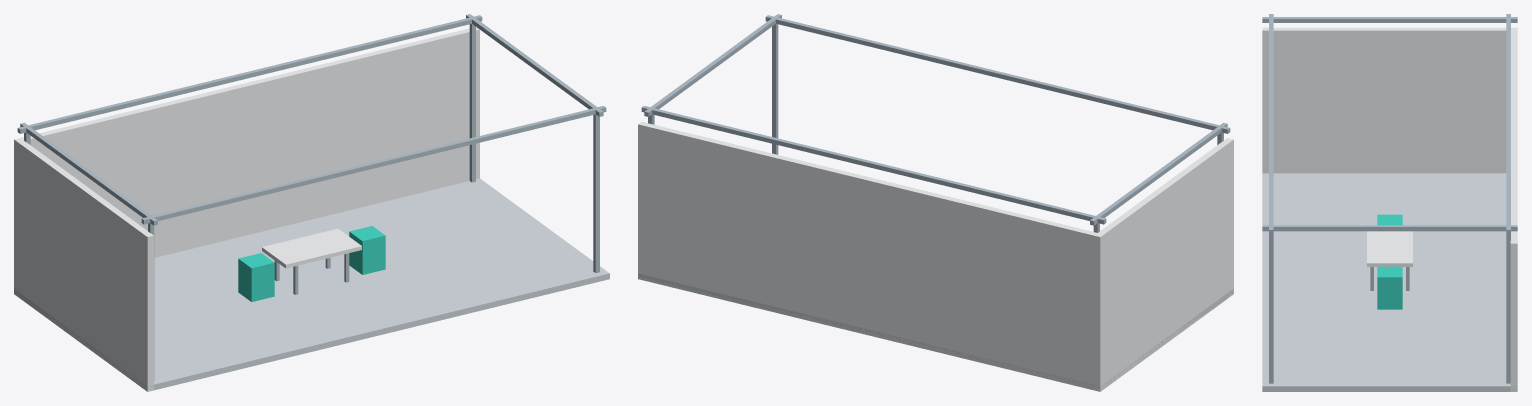
3 renders of one model, left to right at view 1: azimuth 30°, elevation 25°; view 2: azimuth 150°, elevation 25°; view 3: azimuth 270°, elevation 25°, orthographic. The views are drawn at different scales.
Parts seen in each view (by area): view 1: Exhibition Booth Concept; view 2: Exhibition Booth Concept; view 3: Exhibition Booth Concept.
Part boxes in pixels (box(x1,y1,x2,y2)): Exhibition Booth Concept: box(14, 14, 609, 391); Exhibition Booth Concept: box(638, 14, 1233, 391); Exhibition Booth Concept: box(1262, 14, 1517, 391).
Size of the model in its own units: 10 by 3.49 by 5.
